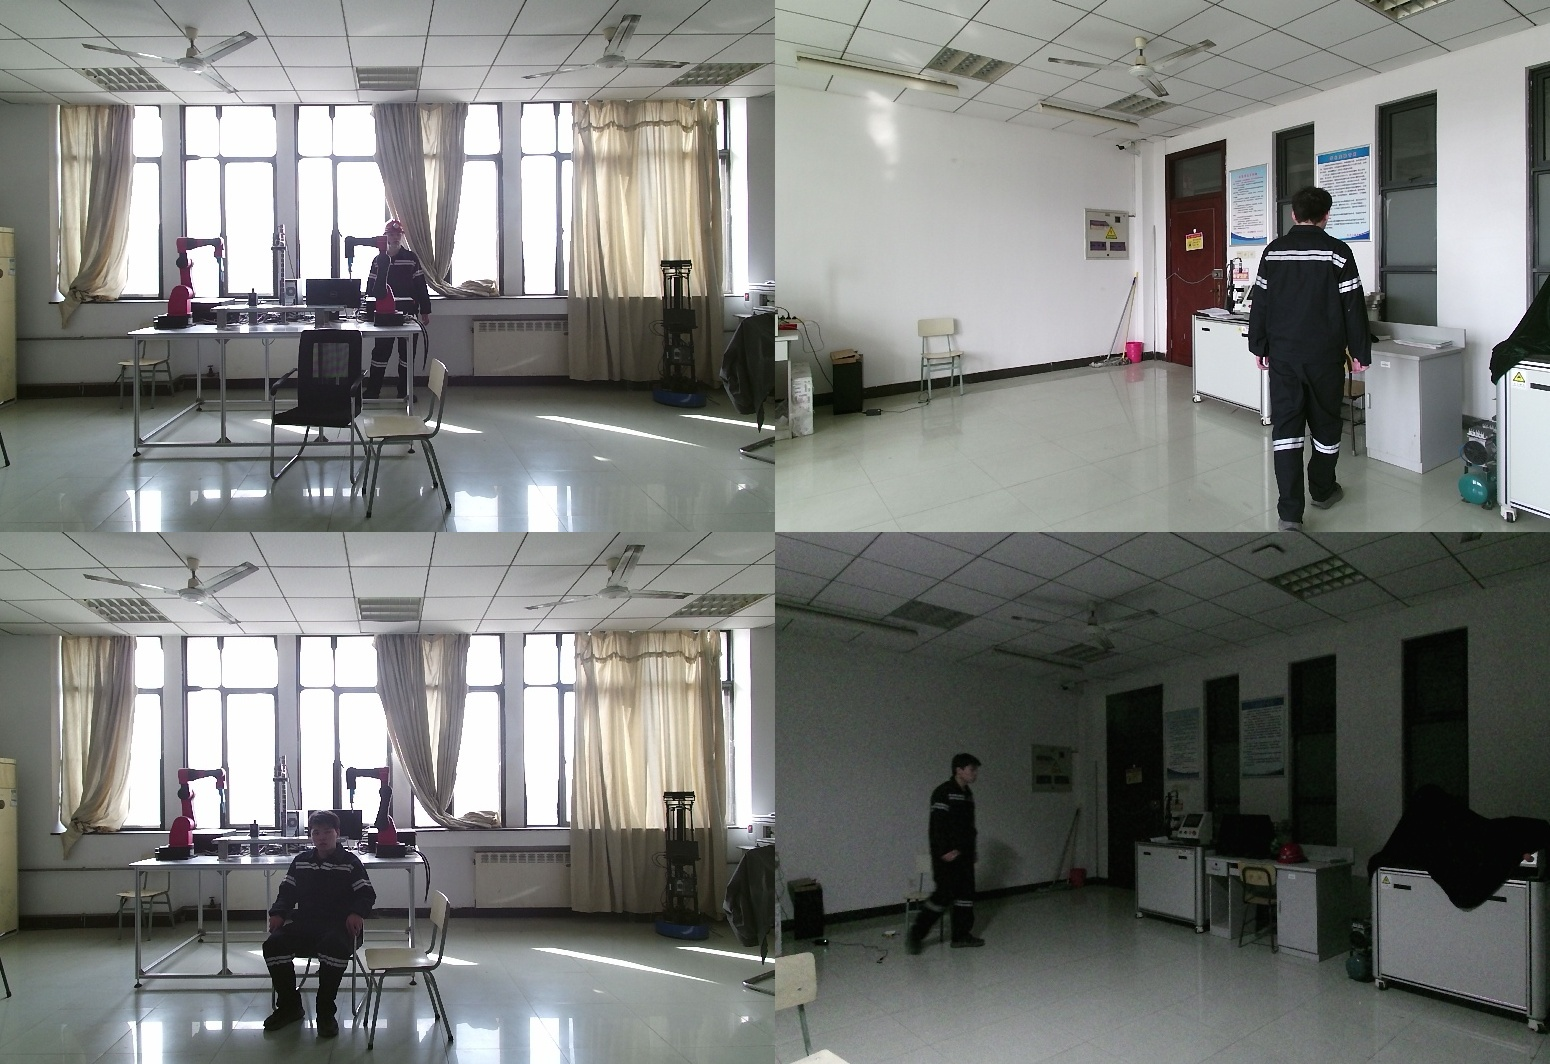person: (1246, 186, 1378, 532), (261, 812, 383, 1030), (898, 755, 987, 968), (363, 220, 431, 400)
